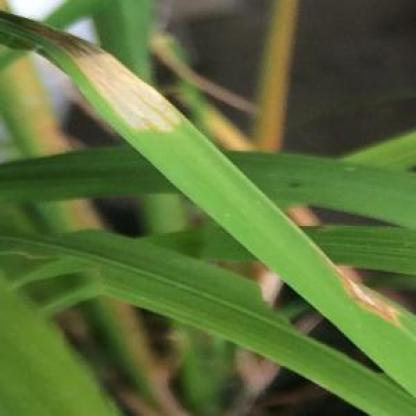Rice blast: (17, 22, 193, 141), (331, 262, 416, 335)
